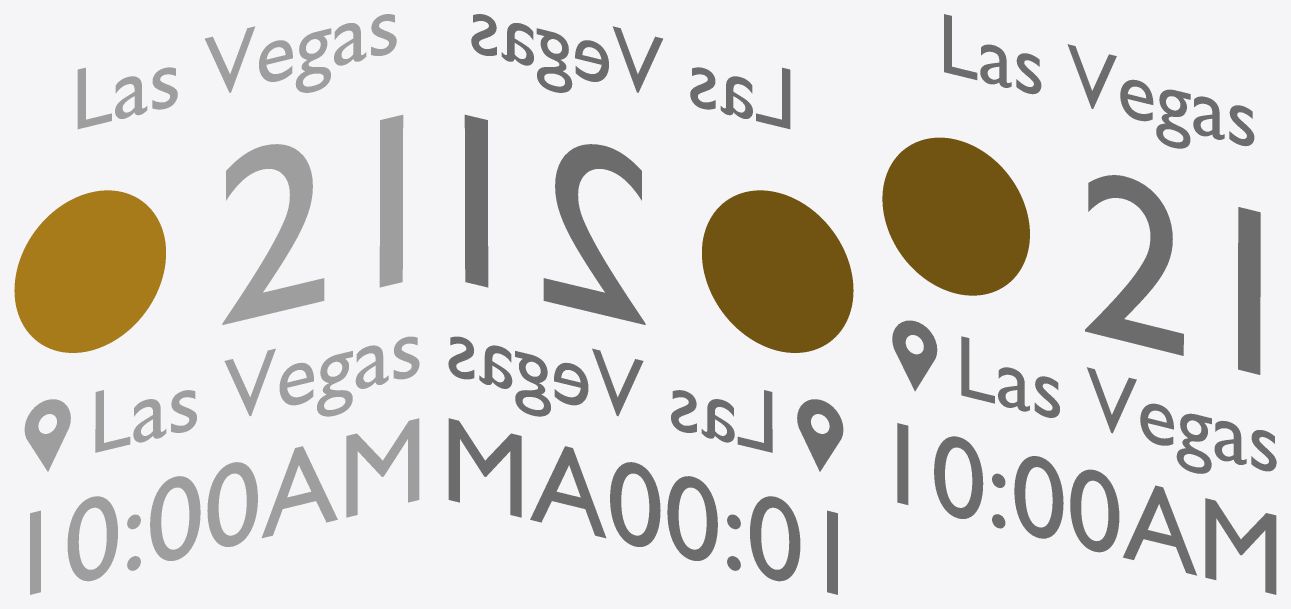
File: TopRightMenuBarText.fbx
3 views of the same model, side by side, from view 1: azimuth 30°, elevation 25°; view 2: azimuth 150°, elevation 25°; view 3: azimuth 330°, elevation 25° (orthographic). The views are drawn at different scales.
Visible parts, largest first — view 1: Text.003; view 2: Text.003; view 3: Text.003.
Boxes of the visible parts, left/top/right/bottom form: Text.003: left=14, top=14, right=419, bottom=594; Text.003: left=448, top=14, right=853, bottom=594; Text.003: left=882, top=14, right=1276, bottom=594.
Bounding box in the file's own units: 37.17 × 45.15 × 2.29e-05.
